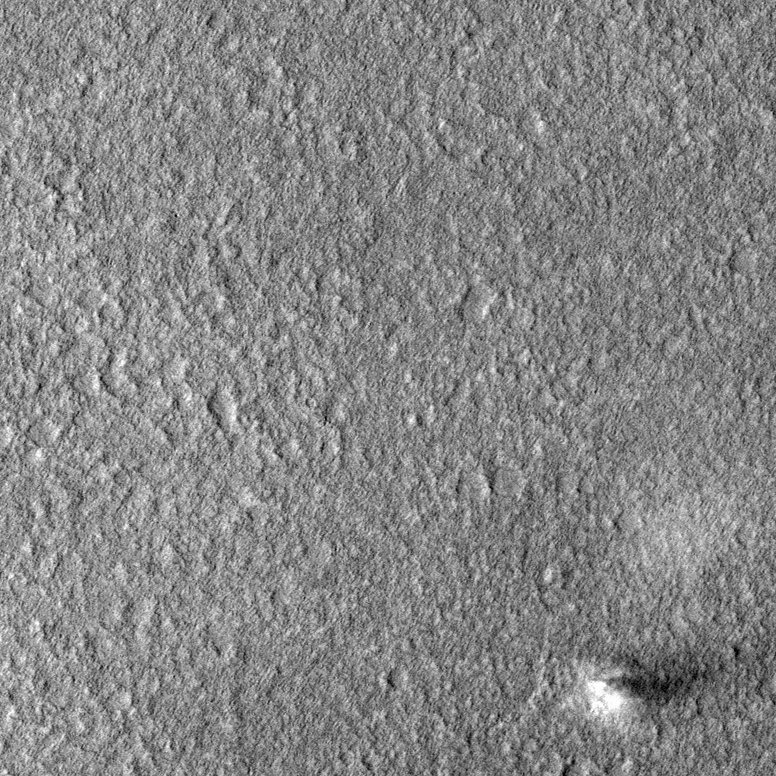dust_devil: (584, 663, 728, 718)
